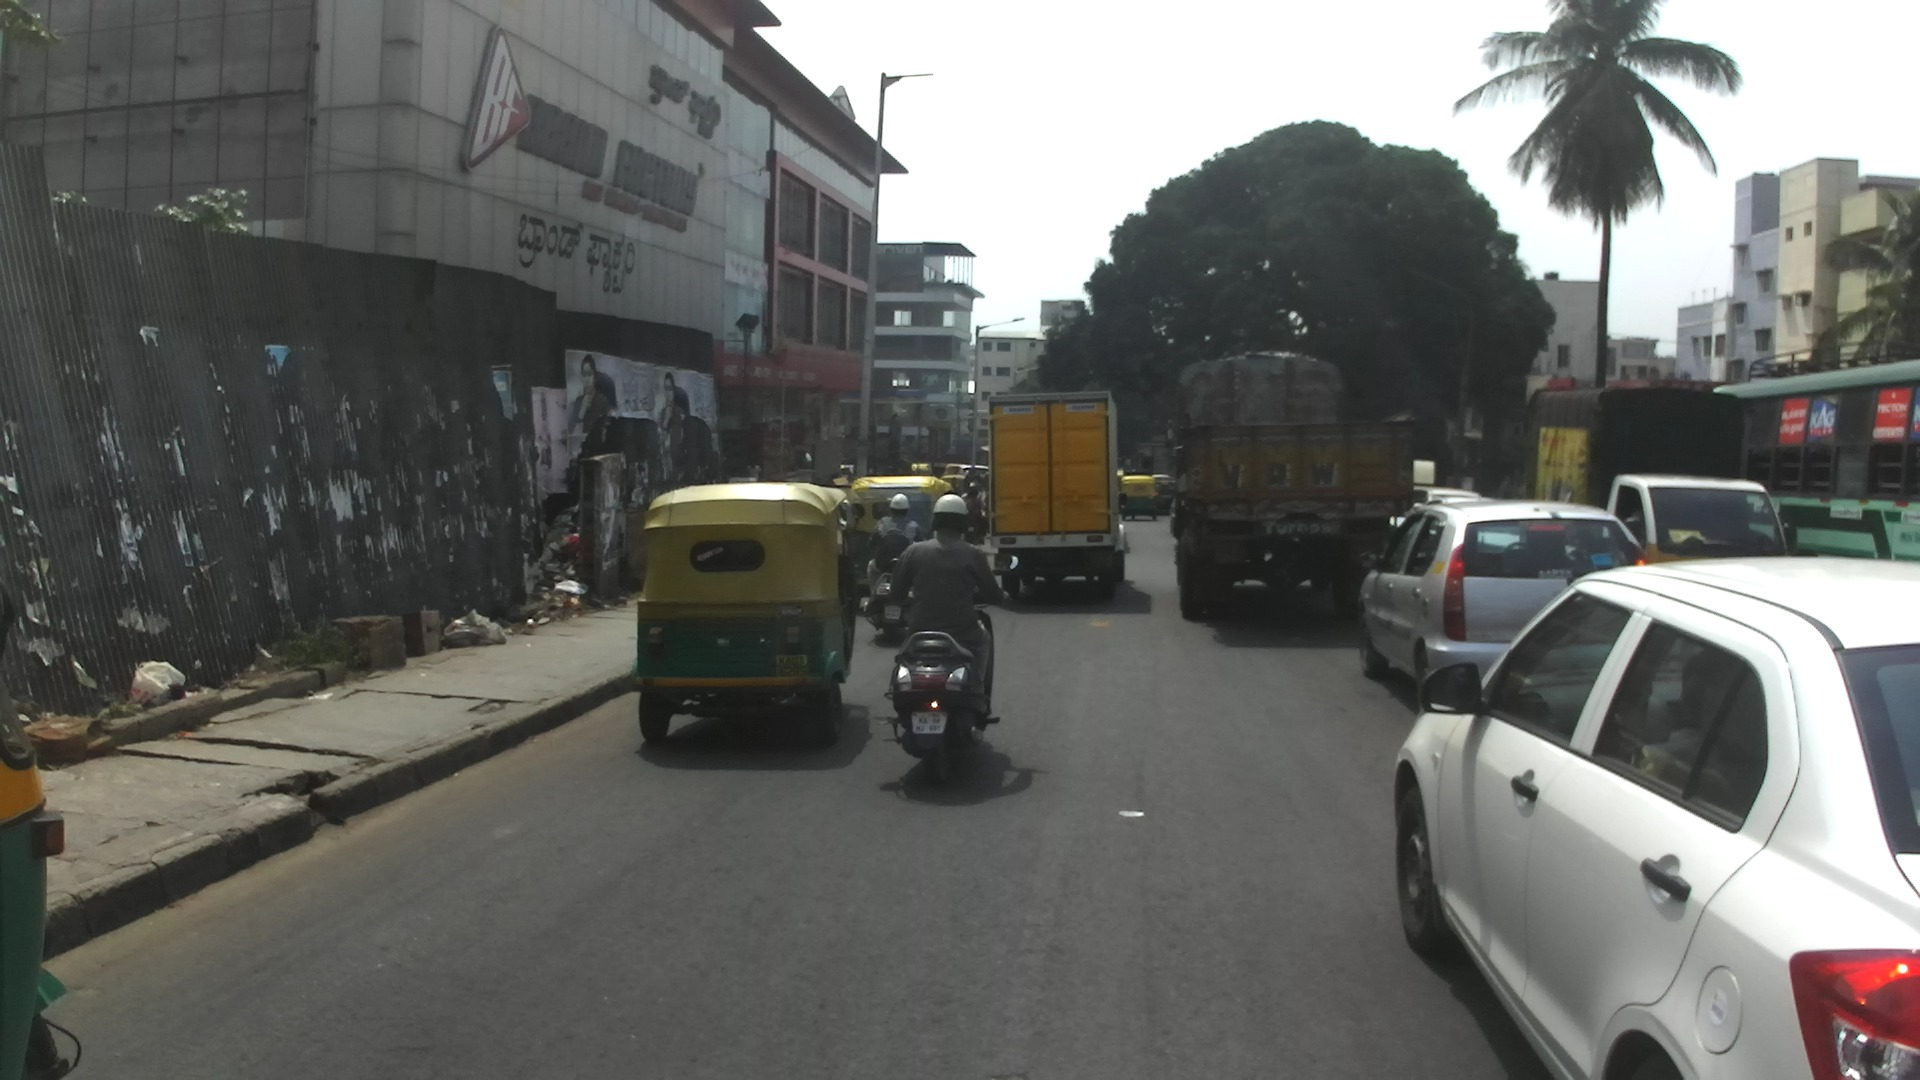autorickshaw: (630, 481, 866, 748), (1, 575, 83, 1080), (848, 475, 952, 593), (1118, 473, 1157, 519), (939, 475, 970, 496)
bus: (1714, 341, 1920, 571)
car: (1391, 553, 1920, 1080), (1362, 499, 1648, 693), (1410, 486, 1486, 509)
motorcycle: (880, 551, 1018, 784), (864, 572, 916, 639)
person: (747, 459, 761, 482)
rider: (889, 494, 1008, 717), (865, 494, 925, 605), (963, 482, 988, 538), (976, 477, 987, 503)
truck: (1165, 352, 1413, 622), (1526, 387, 1791, 561), (985, 392, 1126, 603)
vehicle fallback: (945, 462, 988, 483), (1151, 473, 1174, 512), (908, 461, 945, 477)
